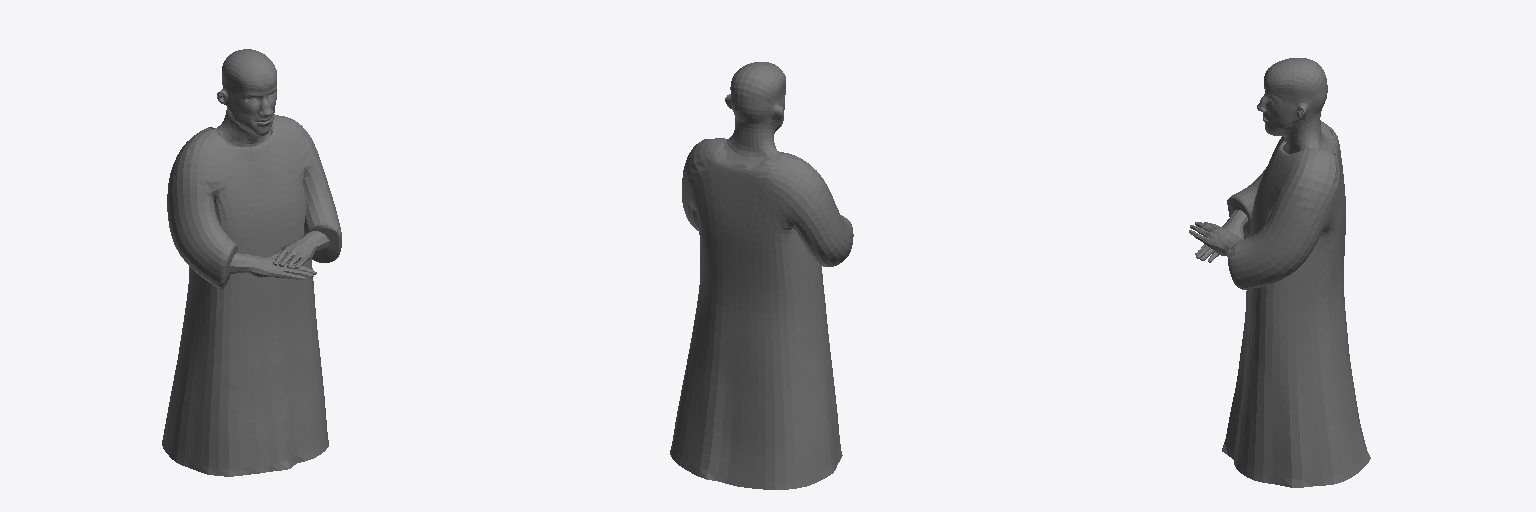
The model's file is Balla_Uv.obj.
3 renders of one model, left to right at view 1: azimuth 30°, elevation 25°; view 2: azimuth 150°, elevation 25°; view 3: azimuth 270°, elevation 25°, orthographic.
Parts seen in each view (by area): view 1: Balla_Rescale:Balla27792; view 2: Balla_Rescale:Balla27792; view 3: Balla_Rescale:Balla27792.
Part boxes in pixels (x1,y1,x2,y2): Balla_Rescale:Balla27792: (162, 49, 341, 476); Balla_Rescale:Balla27792: (670, 62, 853, 489); Balla_Rescale:Balla27792: (1189, 58, 1370, 487).
Bounding box in the file's own units: 0.8968 × 2.19 × 0.9204.